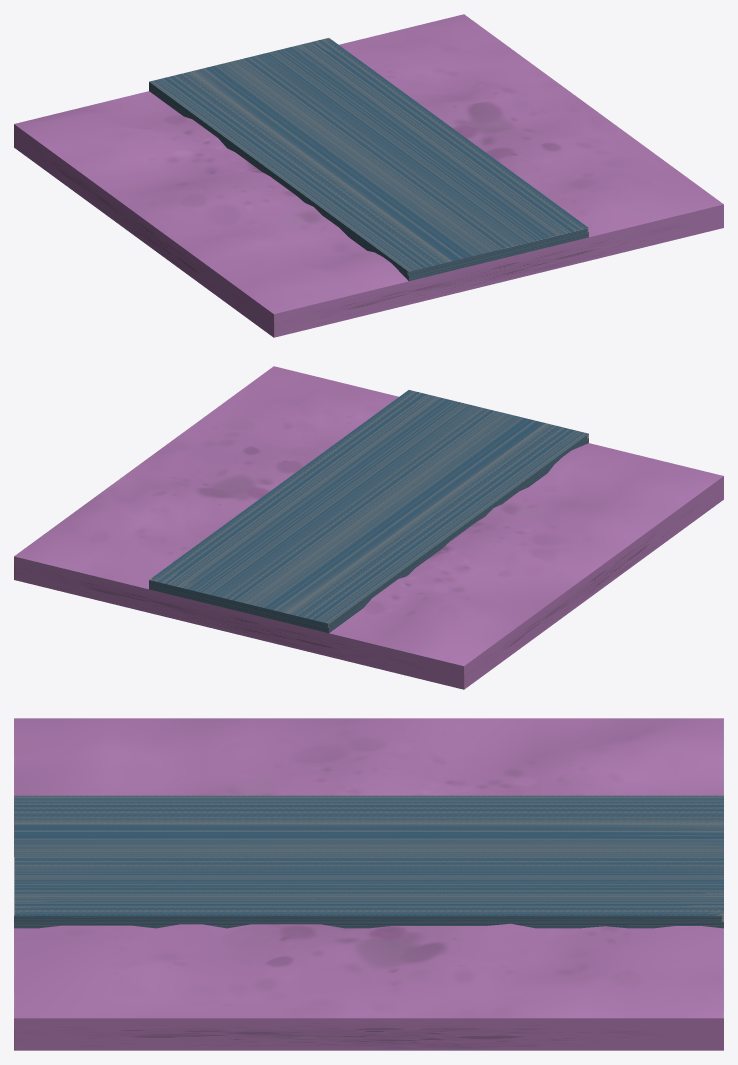
The model's file is Weg_recht_low_ground_01.obj.
3 views of the same model, one above another, from view 1: azimuth 30°, elevation 25°; view 2: azimuth 150°, elevation 25°; view 3: azimuth 270°, elevation 25° (orthographic). The views are drawn at different scales.
Visible parts, largest first — view 1: Tile2.0, weg; view 2: Tile2.0, weg; view 3: Tile2.0, weg.
Boxes of the visible parts, left/top/right/bottom form: Tile2.0: left=14, top=14, right=723, bottom=337; weg: left=149, top=38, right=588, bottom=280; Tile2.0: left=14, top=366, right=723, bottom=689; weg: left=149, top=390, right=588, bottom=632; Tile2.0: left=14, top=718, right=723, bottom=1050; weg: left=14, top=795, right=723, bottom=928.
Size of the model in its own units: 10 by 0.6996 by 10.
